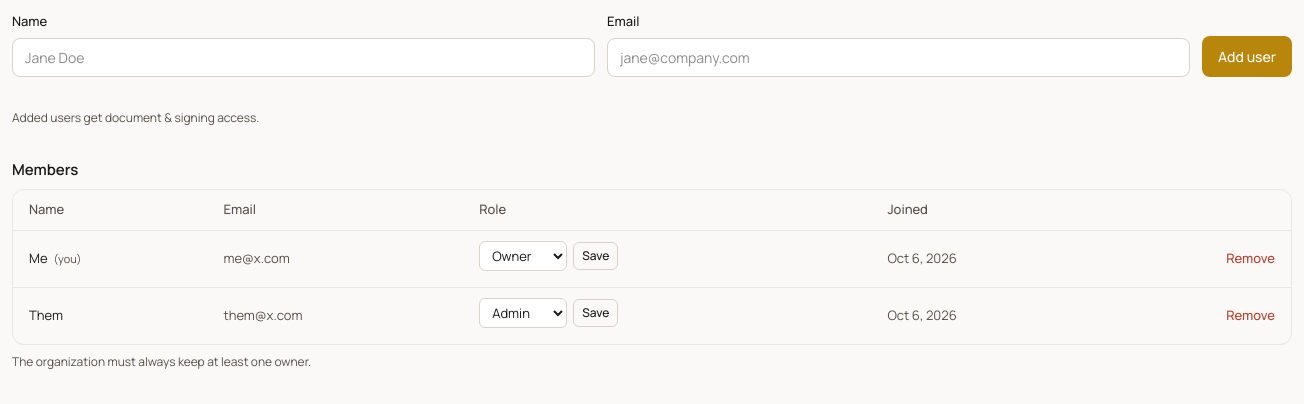
role control › keeps showing the saved role and says so
Step 1. Select "Admin" in the dropdown named "Role for Them" → (523, 312), box top-left (479, 298), bottom-right (567, 328)
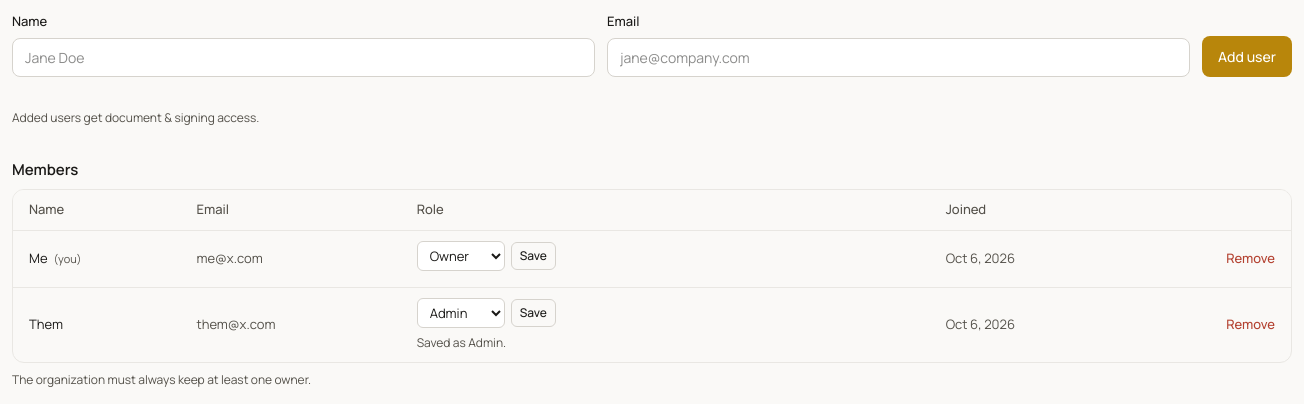
Expected: the text "Saved as Admin." is shown, top-left (417, 334), bottom-right (506, 350)
